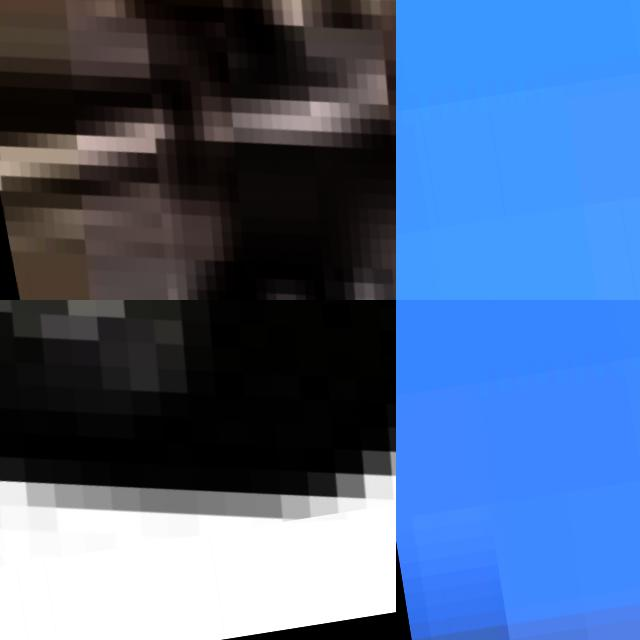0: (0, 0, 396, 300)
drone: (0, 300, 396, 594)
